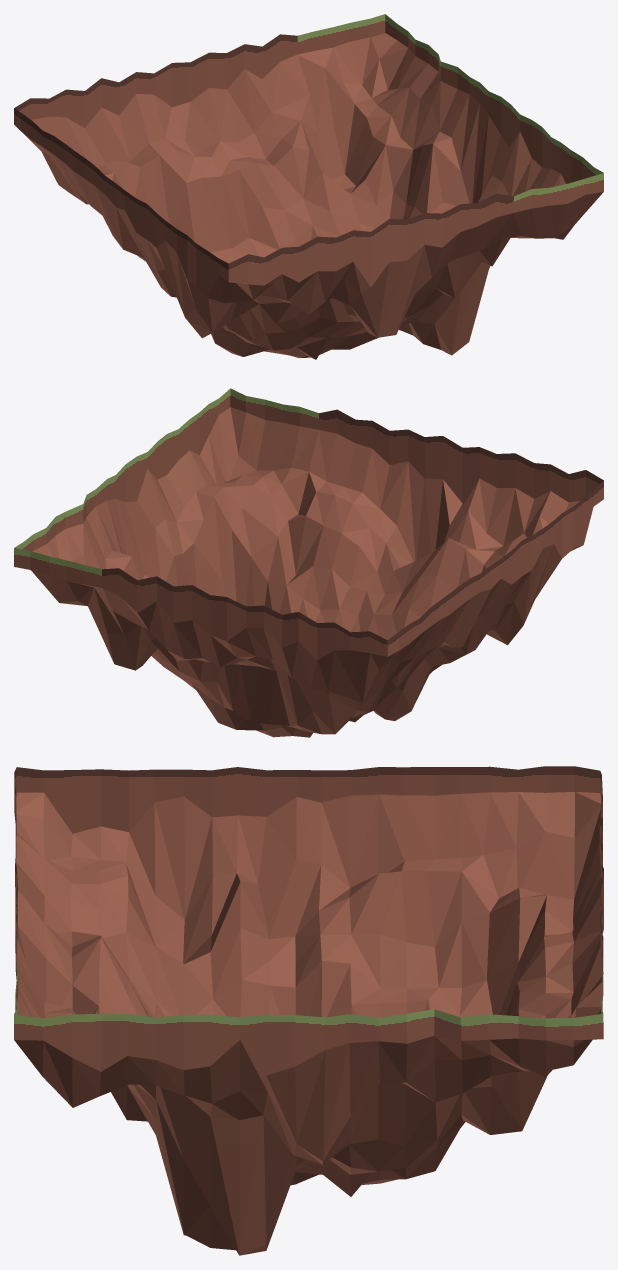
The model's file is agri-biome-bottom.glb.
3 renders of one model, top to bottom at view 1: azimuth 30°, elevation 25°; view 2: azimuth 150°, elevation 25°; view 3: azimuth 270°, elevation 25°, orthographic. The views are drawn at different scales.
Visible parts, largest first — view 1: SOIL-BOTTOM; view 2: SOIL-BOTTOM; view 3: SOIL-BOTTOM.
Boxes of the visible parts, box(x1,y1,x2,y2) form: SOIL-BOTTOM: box(14, 14, 603, 359); SOIL-BOTTOM: box(14, 388, 603, 737); SOIL-BOTTOM: box(14, 766, 603, 1255).
Size of the model in its own units: 2.01 by 1.1 by 2.02.
1 material, 1 textured.
